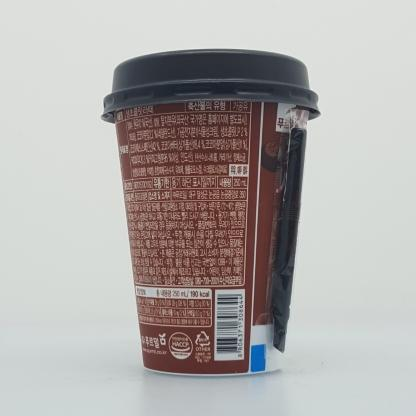----------250ML: (101, 49, 321, 376)
